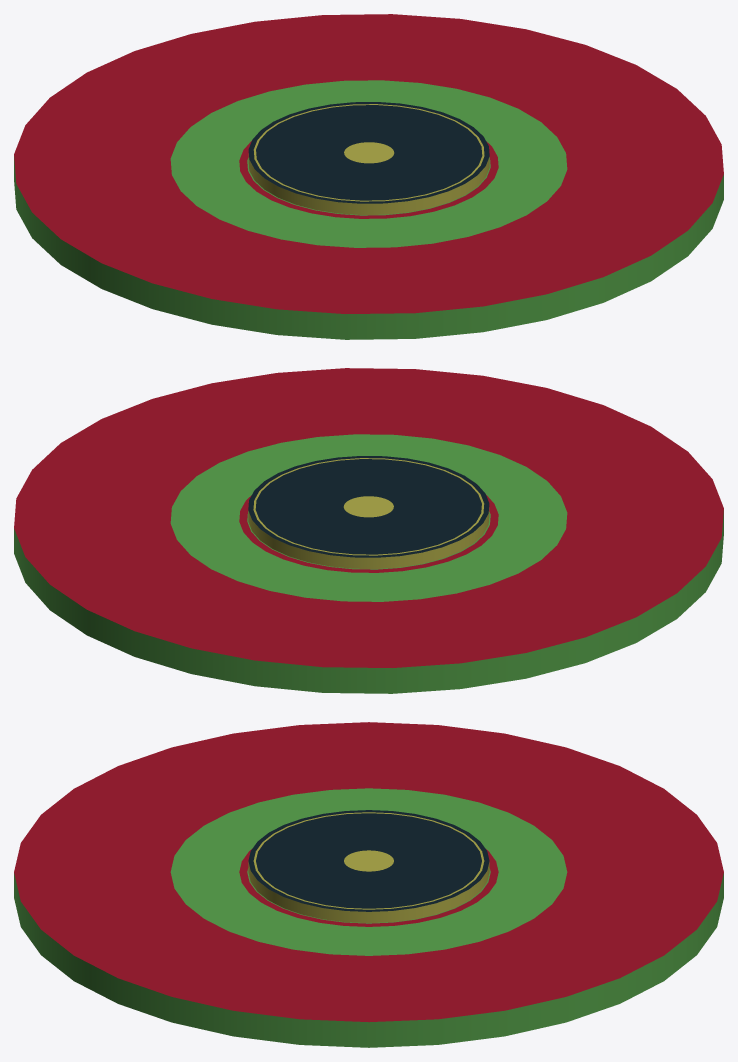
File: ProposedStageSize_2020-07-17 (1).fbx
3 renders of one model, top to bottom at view 1: azimuth 30°, elevation 25°; view 2: azimuth 150°, elevation 25°; view 3: azimuth 270°, elevation 25°, orthographic.
Visible parts, largest first — view 1: outerStageModified, innerStageModified; view 2: outerStageModified, innerStageModified; view 3: outerStageModified, innerStageModified.
Part boxes in pixels (x1,y1,x2,y2): outerStageModified: (14,14,723,339); innerStageModified: (248,102,489,214); outerStageModified: (14,368,723,693); innerStageModified: (248,456,489,568); outerStageModified: (14,722,723,1047); innerStageModified: (248,810,489,923).
Size of the model in its own units: 93.84 by 5.38 by 93.84.
